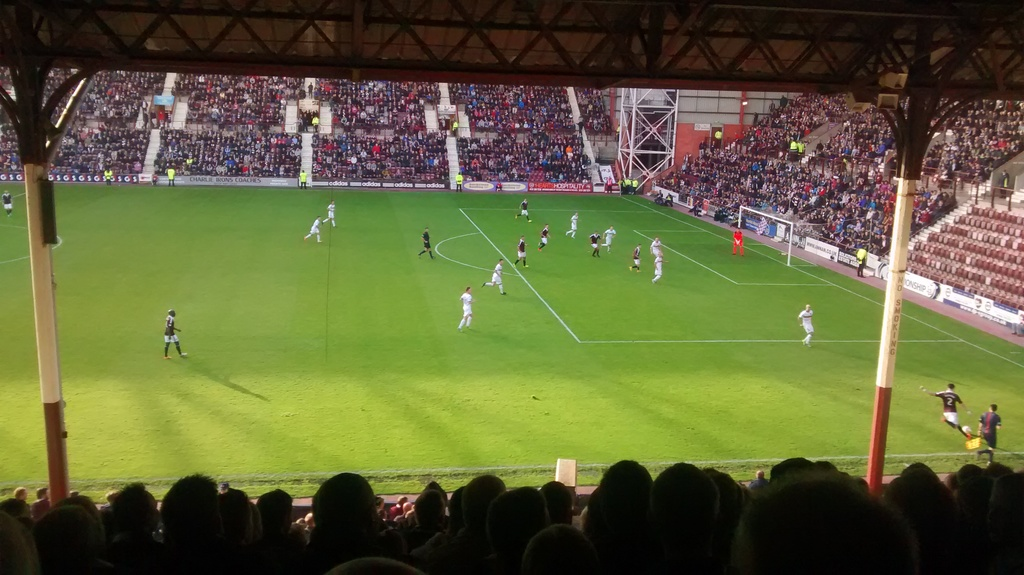Ball: (962, 425, 975, 436)
